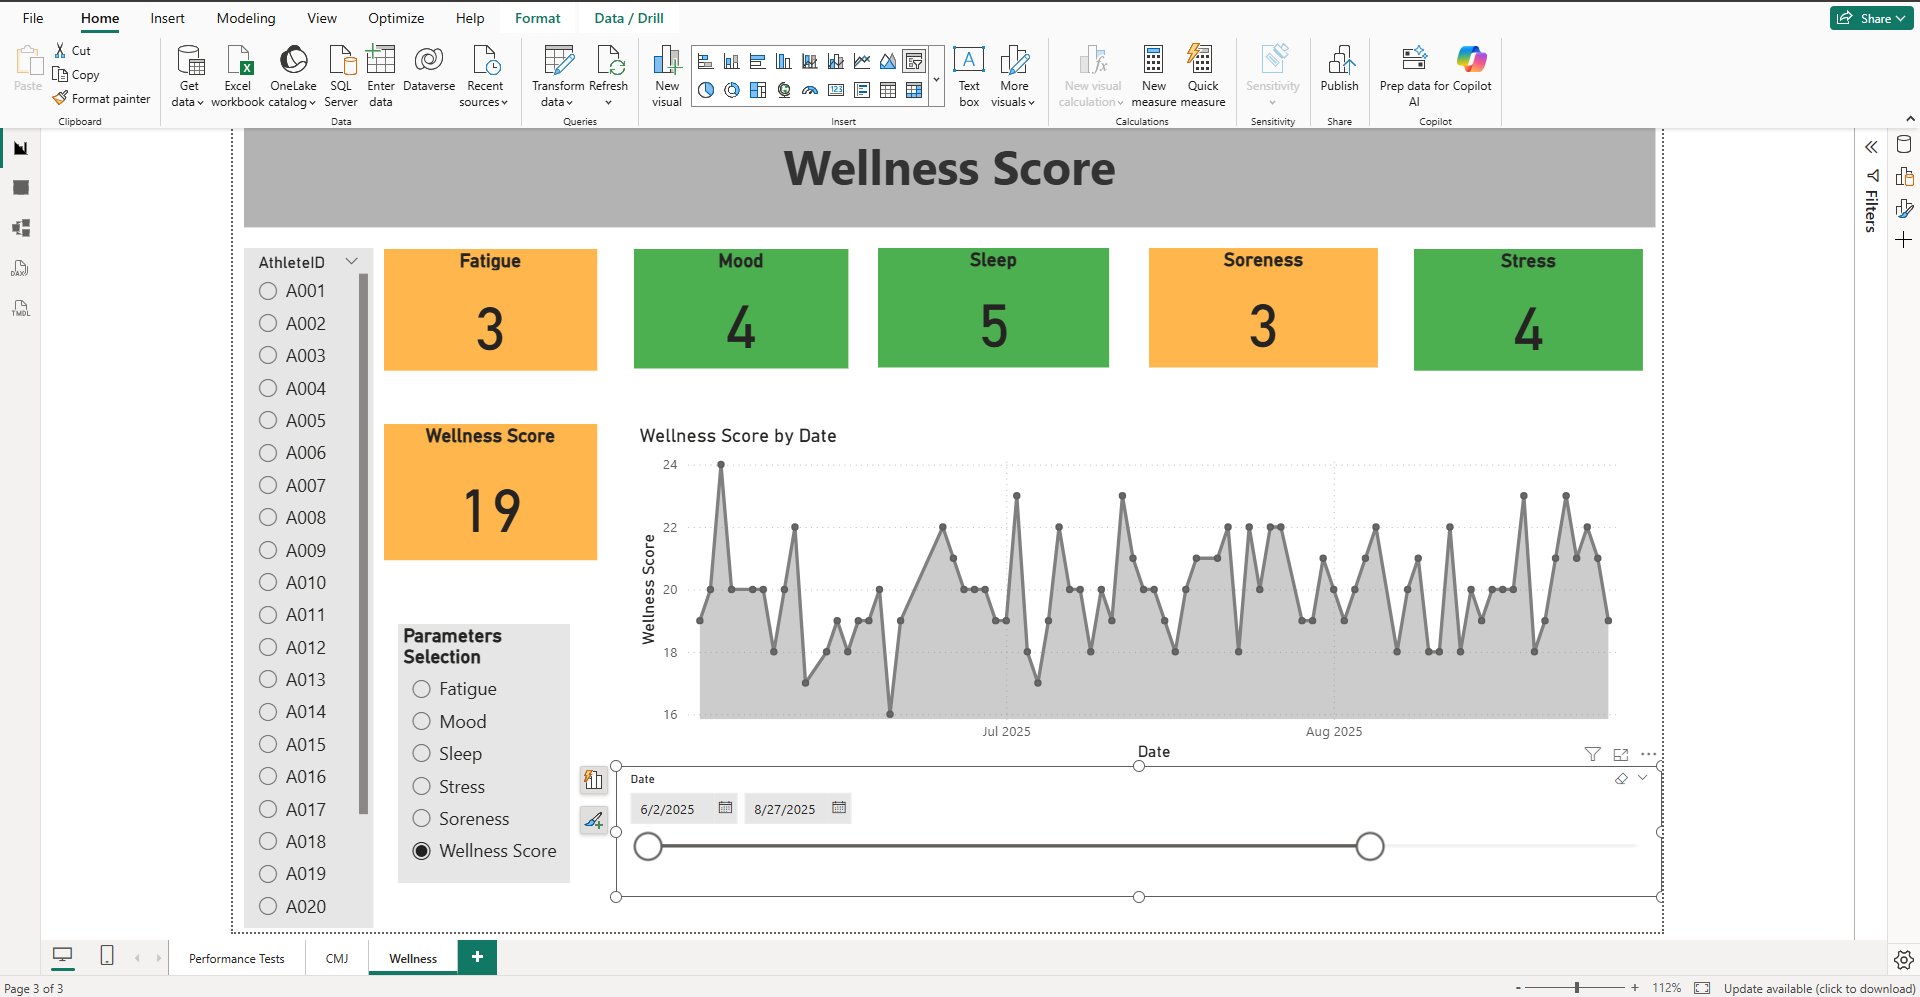

This screenshot's page, from the dashboard's own definition file:
{"tool":"powerbi","page":{"name":"Wellness","canvas":[1280,720],"ordinal":2},"visuals":[{"type":"textbox","box":[9.9,0,1263.6,88.7],"z":0},{"type":"areaChart","fields":{"Y":["Athlete.WellnessTotal Today"],"Category":["Wellness_Daily.Date"]},"box":[359.1,265.1,903.6,306.3],"z":1000},{"type":"slicer","fields":{"Values":["Wellness_Daily.AthleteID"]},"box":[9.9,107.5,115.5,609],"z":2000},{"type":"card","title":"Fatigue","fields":{"Values":["Athlete.Fatigue Today"]},"box":[135.2,108.4,190.7,109.3],"z":3000},{"type":"card","title":"Mood","fields":{"Values":["Athlete.Mood Today"]},"box":[359.1,108.4,191.6,106.6],"z":4000},{"type":"card","title":"Sleep","fields":{"Values":["Athlete.Sleep Today"]},"box":[577.6,107.5,206.9,106.6],"z":5000},{"type":"card","title":"Soreness","fields":{"Values":["Athlete.Soreness Today"]},"box":[820.3,107.5,205.1,106.6],"z":6000},{"type":"slicer","fields":{"Values":["Wellness_Daily.Date"]},"box":[343,571.3,936.7,117.3],"z":7000},{"type":"card","title":"Wellness Score","fields":{"Values":["Athlete.WellnessTotal Today"]},"box":[135.2,265.1,190.7,121.8],"z":8000},{"type":"card","title":"Stress","fields":{"Values":["Athlete.Stress Today"]},"box":[1057.6,108.4,205.1,109.3],"z":9000},{"type":"slicer","title":"Parameters Selection","fields":{"Values":["Parameter 2.Parameter"]},"box":[148.2,444.5,154.2,231.8],"z":10000}]}

Visuals, with their boxes on the page's 1280x720 design canvas (x1, y1, x2, y2). These are canvas units, not pixel positions in the 1920x997 screenshot, which may show the page scaled, cropped or inside an application window:
textbox: locate(10, 0, 1274, 89)
areaChart - Athlete.WellnessTotal Today x Wellness_Daily.Date: locate(359, 265, 1263, 571)
slicer - Wellness_Daily.AthleteID: locate(10, 108, 125, 716)
"Fatigue" card: locate(135, 108, 326, 218)
"Mood" card: locate(359, 108, 551, 215)
"Sleep" card: locate(578, 108, 784, 214)
"Soreness" card: locate(820, 108, 1025, 214)
slicer - Wellness_Daily.Date: locate(343, 571, 1280, 689)
"Wellness Score" card: locate(135, 265, 326, 387)
"Stress" card: locate(1058, 108, 1263, 218)
"Parameters Selection" slicer: locate(148, 444, 302, 676)
